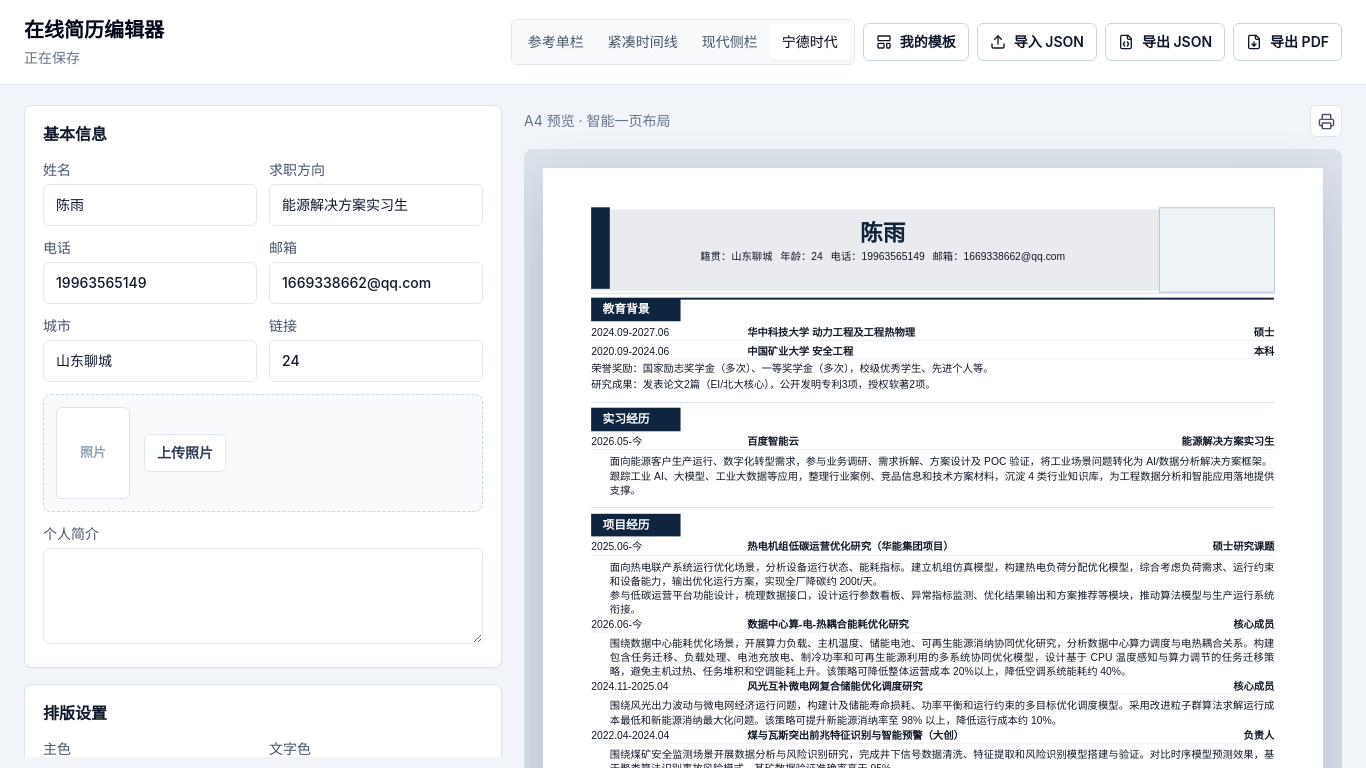
Test: resume builder app › opens the custom template workspace and creates an editable template
Click the button "我的模板": [916, 42] box [863, 23, 969, 61]
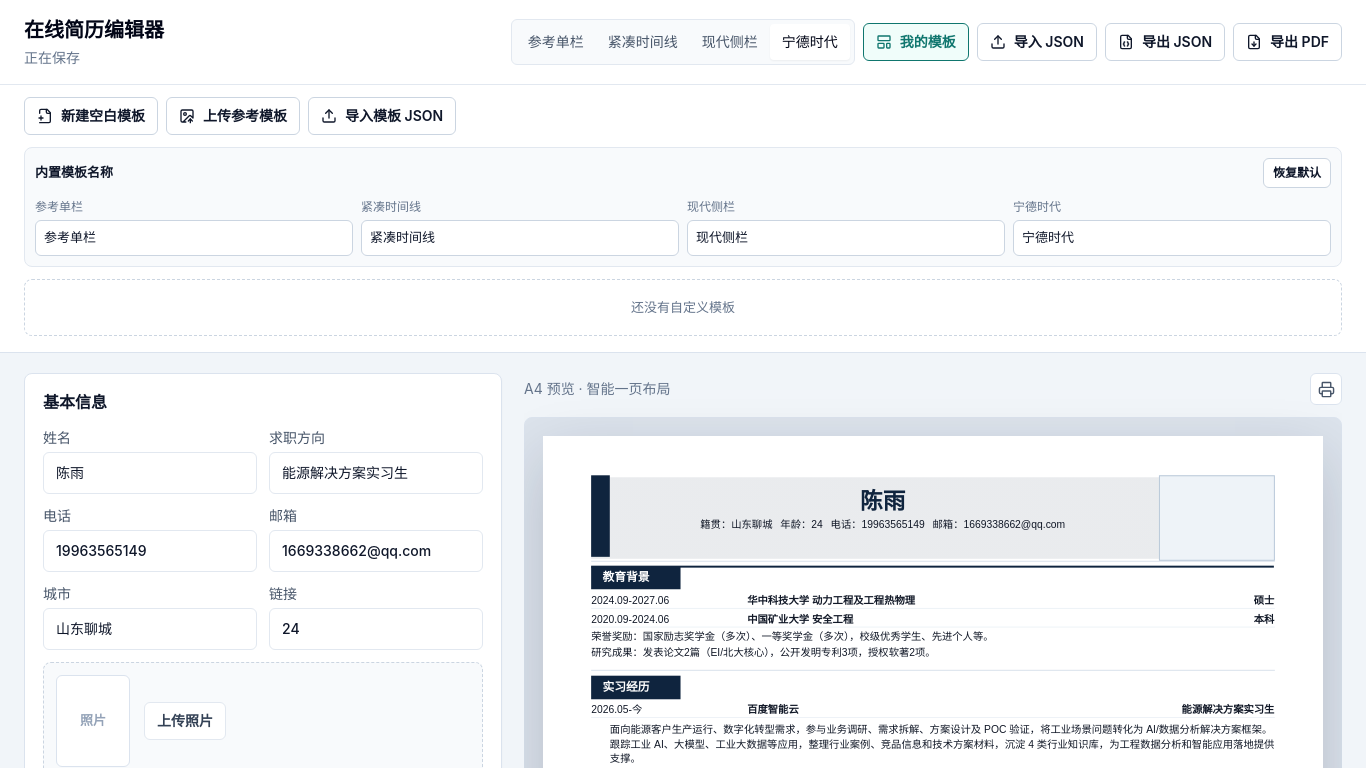
Click the button "新建空白模板": [91, 116] box [24, 97, 158, 135]
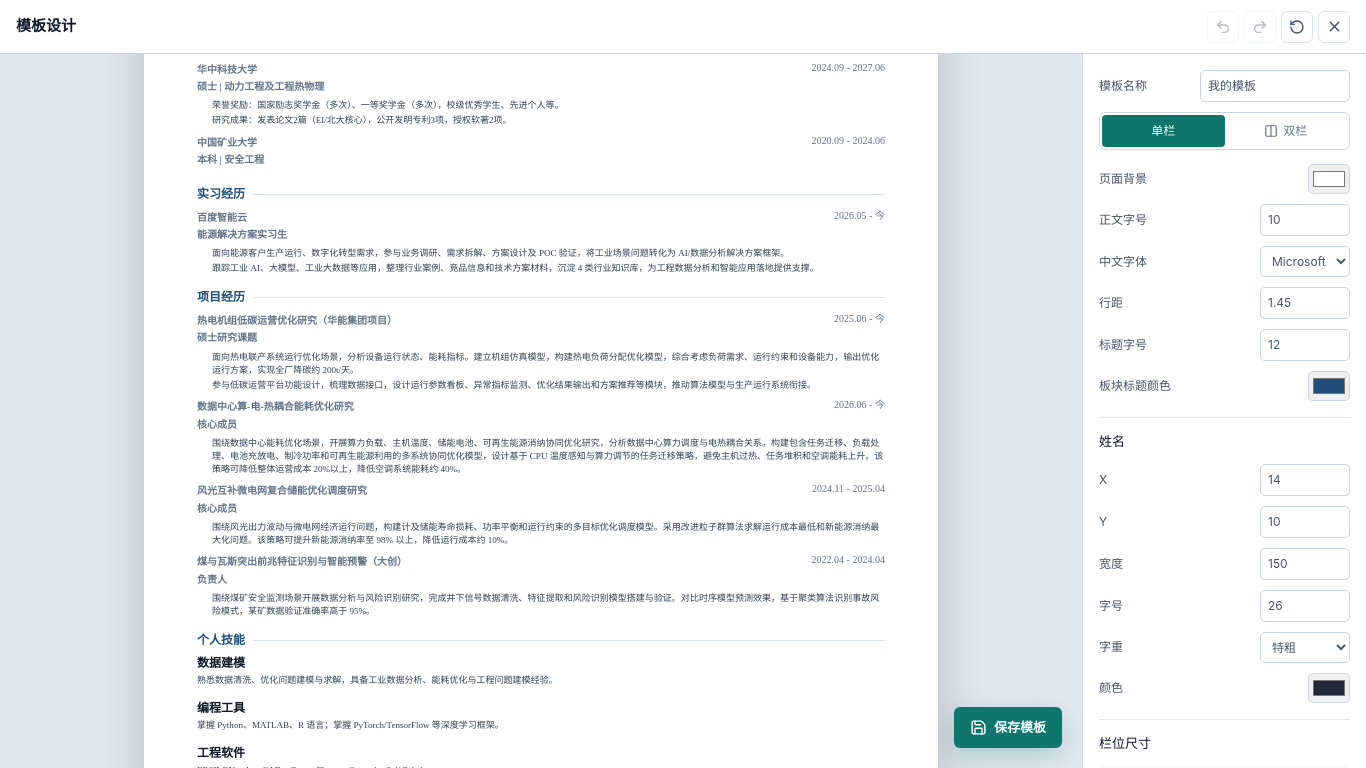
Check: the button "单栏" is shown, box [1102, 115, 1224, 147]
Check: the text "模板设计" is shown, box [16, 15, 76, 38]
Check: the element with test id "resume-template-custom" is shown, box [144, 54, 938, 767]
